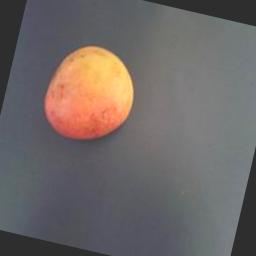Mango Unripe: (20, 26, 146, 162)
